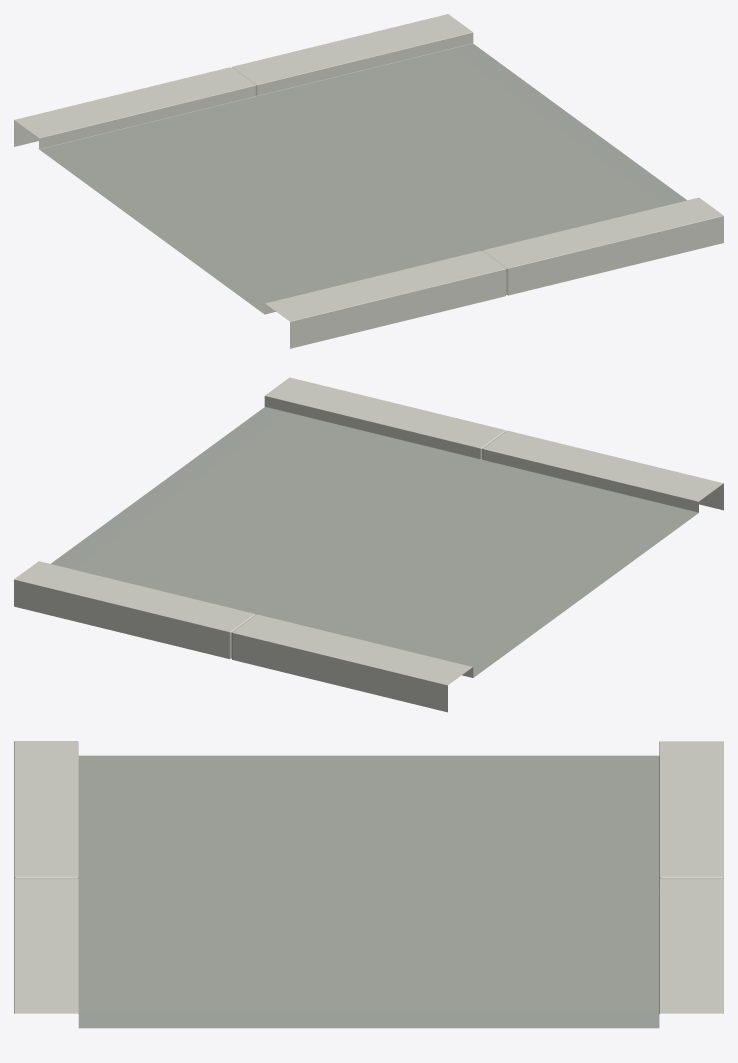
File: StraightSidewalk.fbx
3 renders of one model, top to bottom at view 1: azimuth 30°, elevation 25°; view 2: azimuth 150°, elevation 25°; view 3: azimuth 270°, elevation 25°, orthographic. The views are drawn at different scales.
Visible parts, largest first — view 1: Straight; view 2: Straight; view 3: Straight.
Part boxes in pixels (x1,y1,x2,y2): Straight: [14, 14, 723, 348]; Straight: [14, 377, 723, 712]; Straight: [14, 741, 723, 1028].
Bounding box in the file's own units: 200 × 12.04 × 220.
